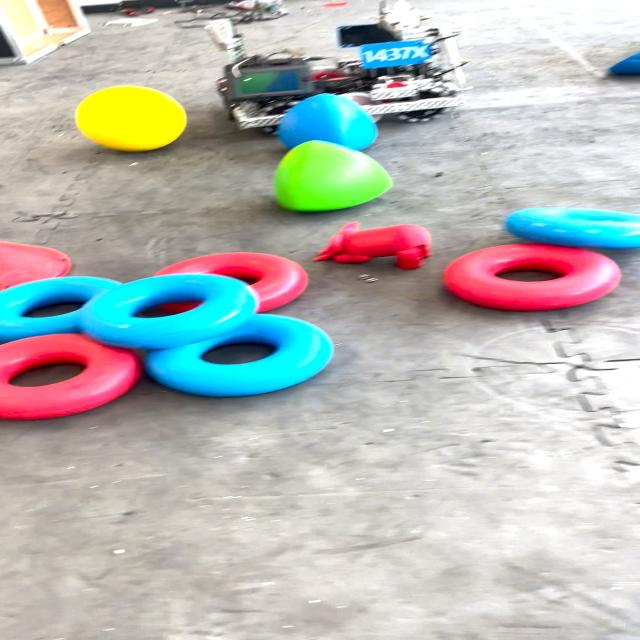Blue-Ring: (144, 314, 333, 396), (80, 274, 258, 349), (0, 276, 122, 342), (504, 208, 640, 249)
Red-Ring: (0, 334, 142, 420), (442, 244, 620, 311), (157, 252, 309, 312)
